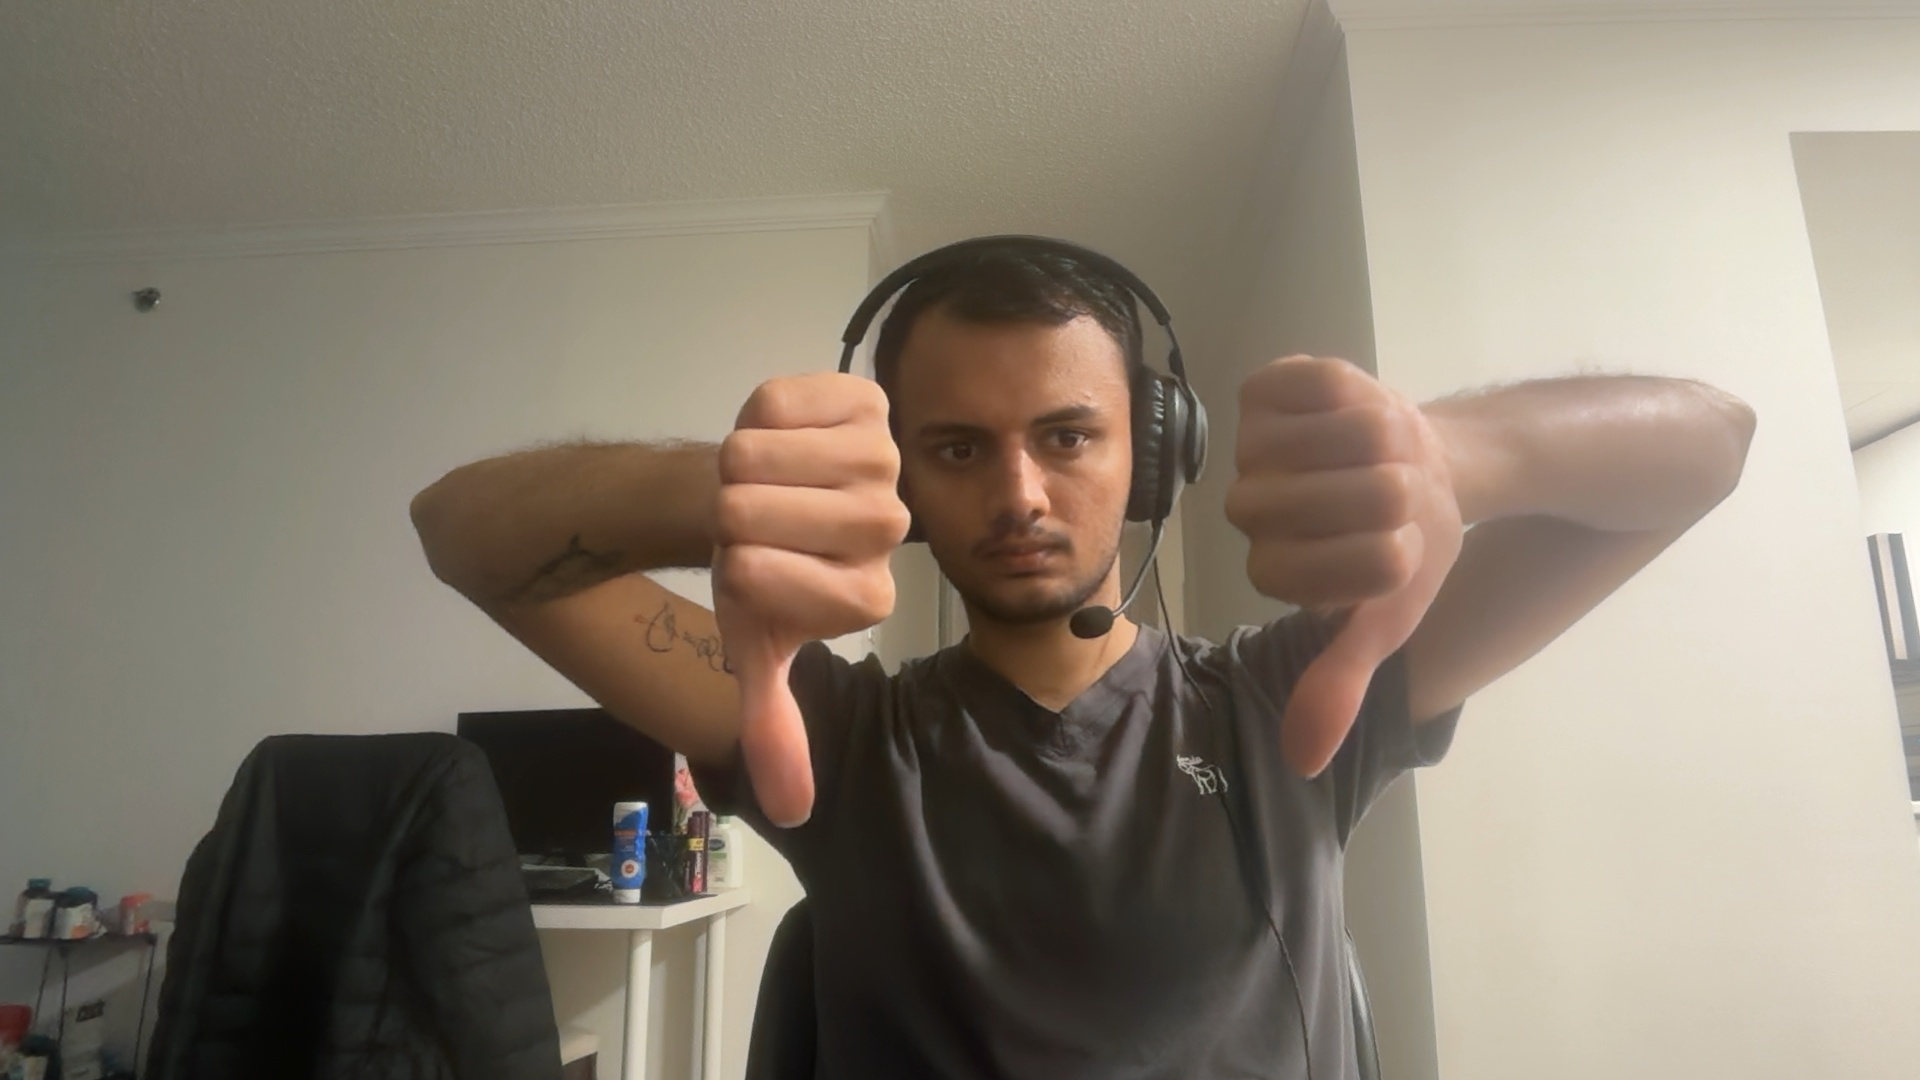thumbsdown: (713, 371, 913, 829)
